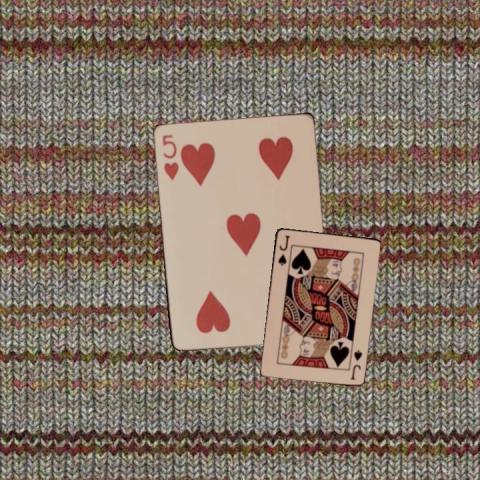5h: (159, 131, 180, 182)
Js: (347, 346, 364, 380), (274, 232, 290, 267)
